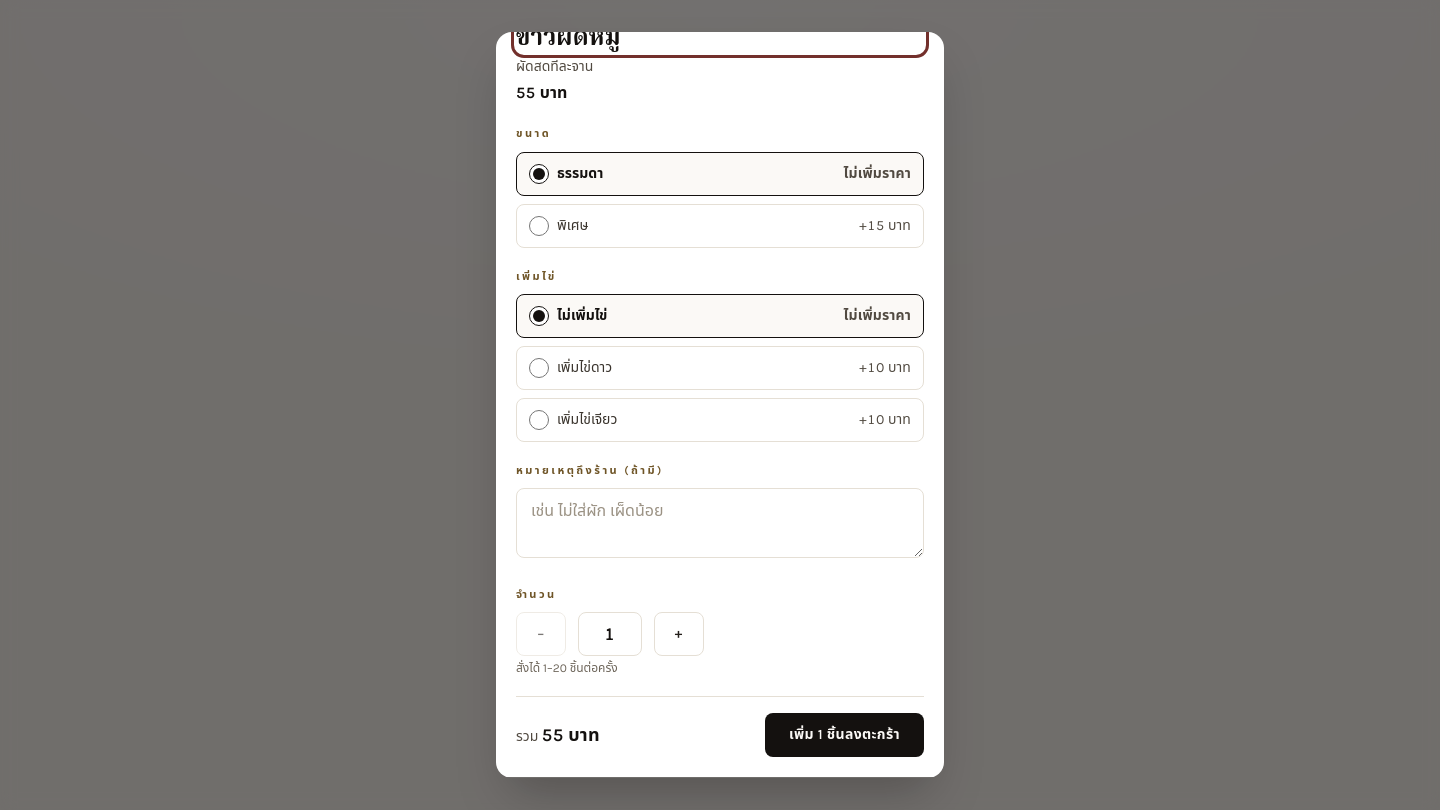
ป๊อปอัปสั่งซื้อจากการ์ดเมนู › ลบช่องจำนวนจนว่างแล้วออก → คืนค่าเดิม ไม่ใช่ 0
The width and height of the screenshot is (1440, 810).
(page scrolled)
Click the button named "เพิ่มจำนวน". click: (679, 634)
box: [654,612,704,656]
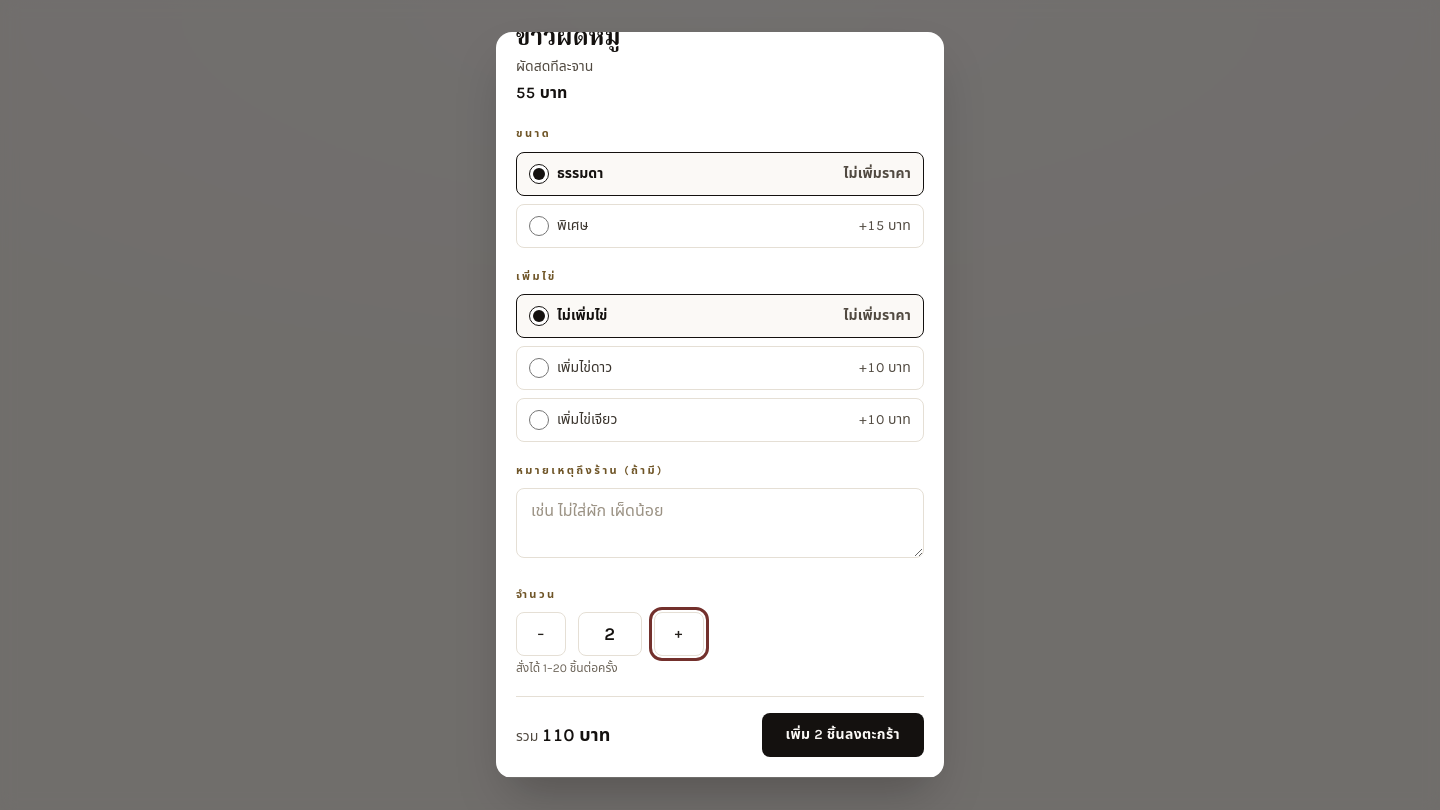
Clear the field named "จำนวนที่สั่ง". click: (610, 634)
box: [578,612,642,656]
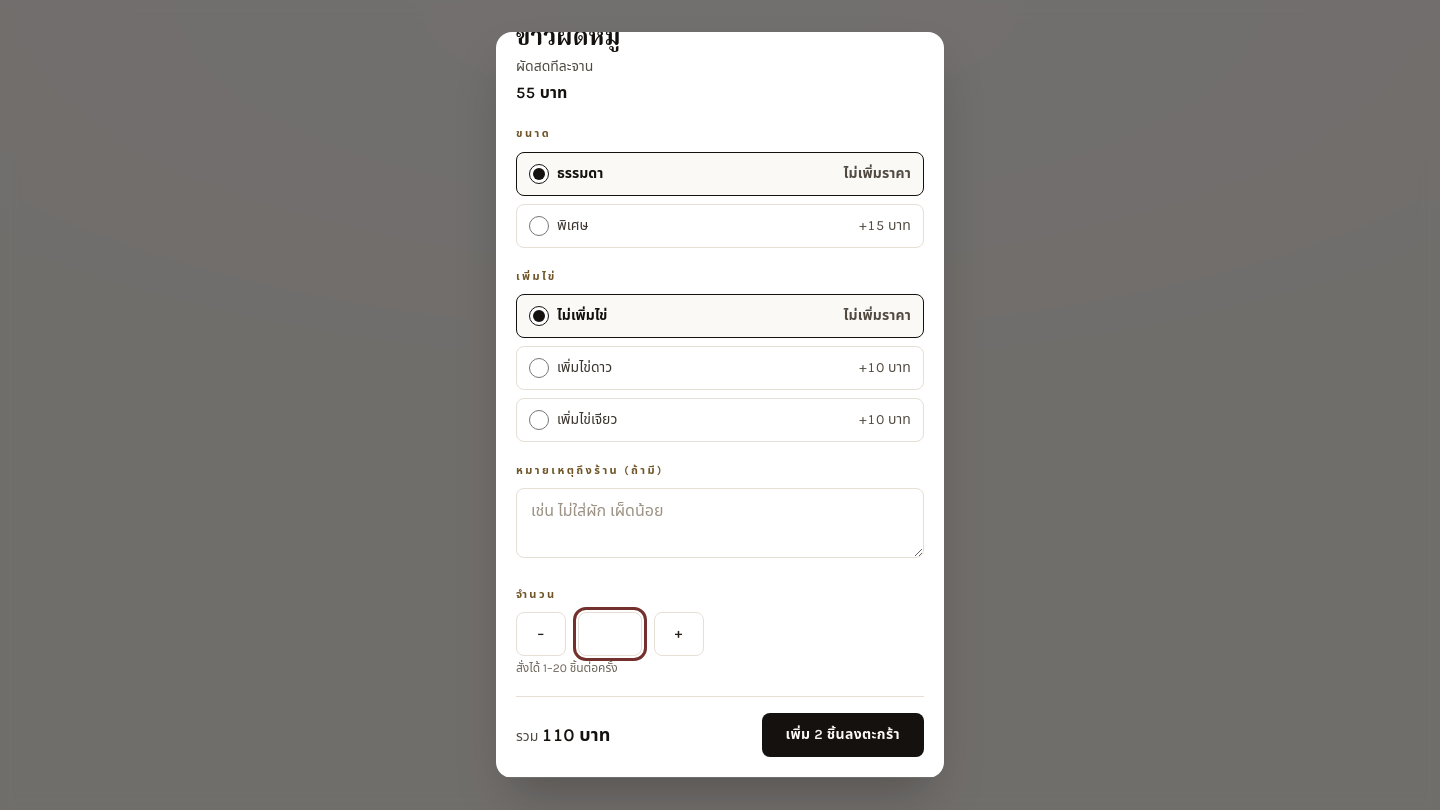
Leave the field named "จำนวนที่สั่ง", box [578,612,642,656]
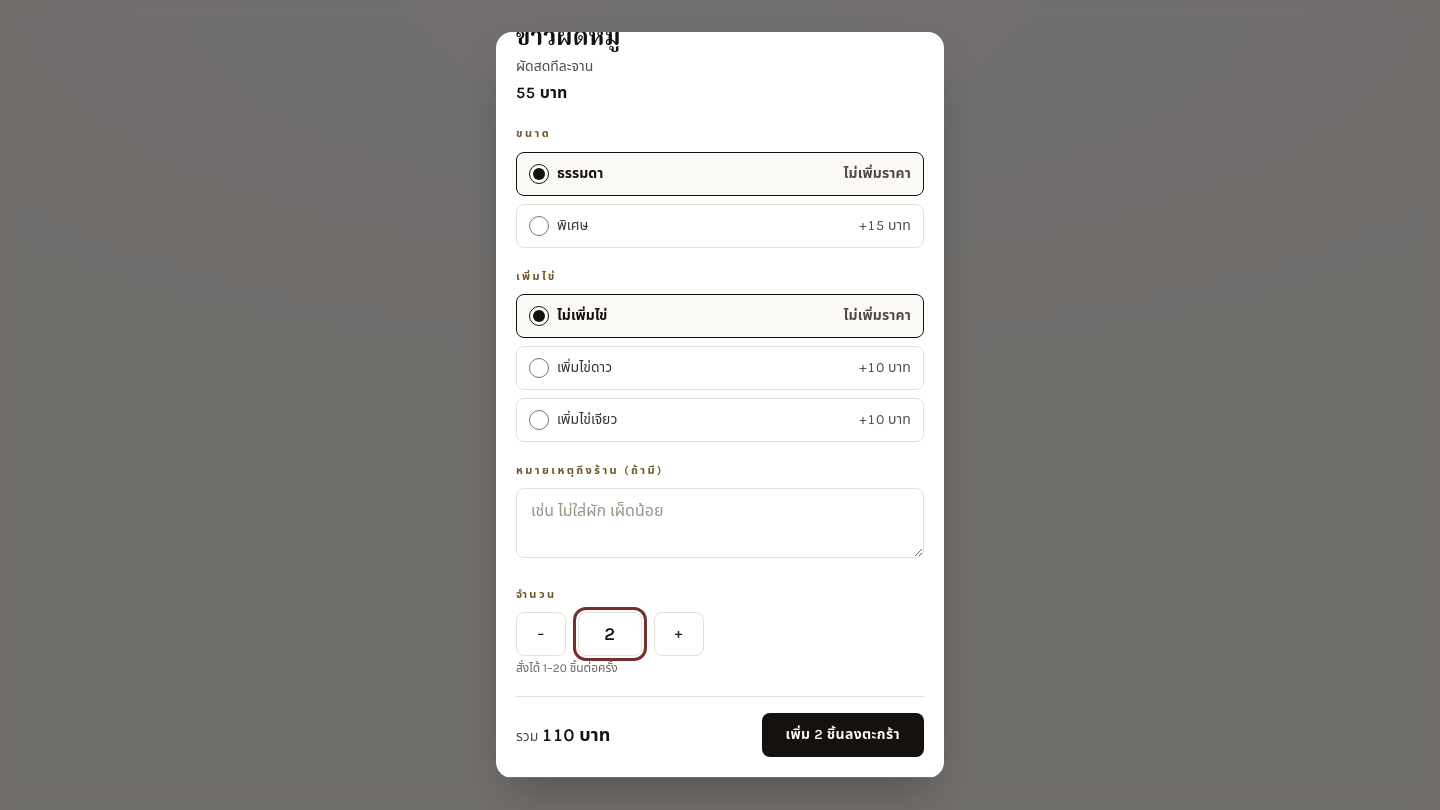
Expected: the field named "จำนวนที่สั่ง" holds "2", [578,612,642,656]
